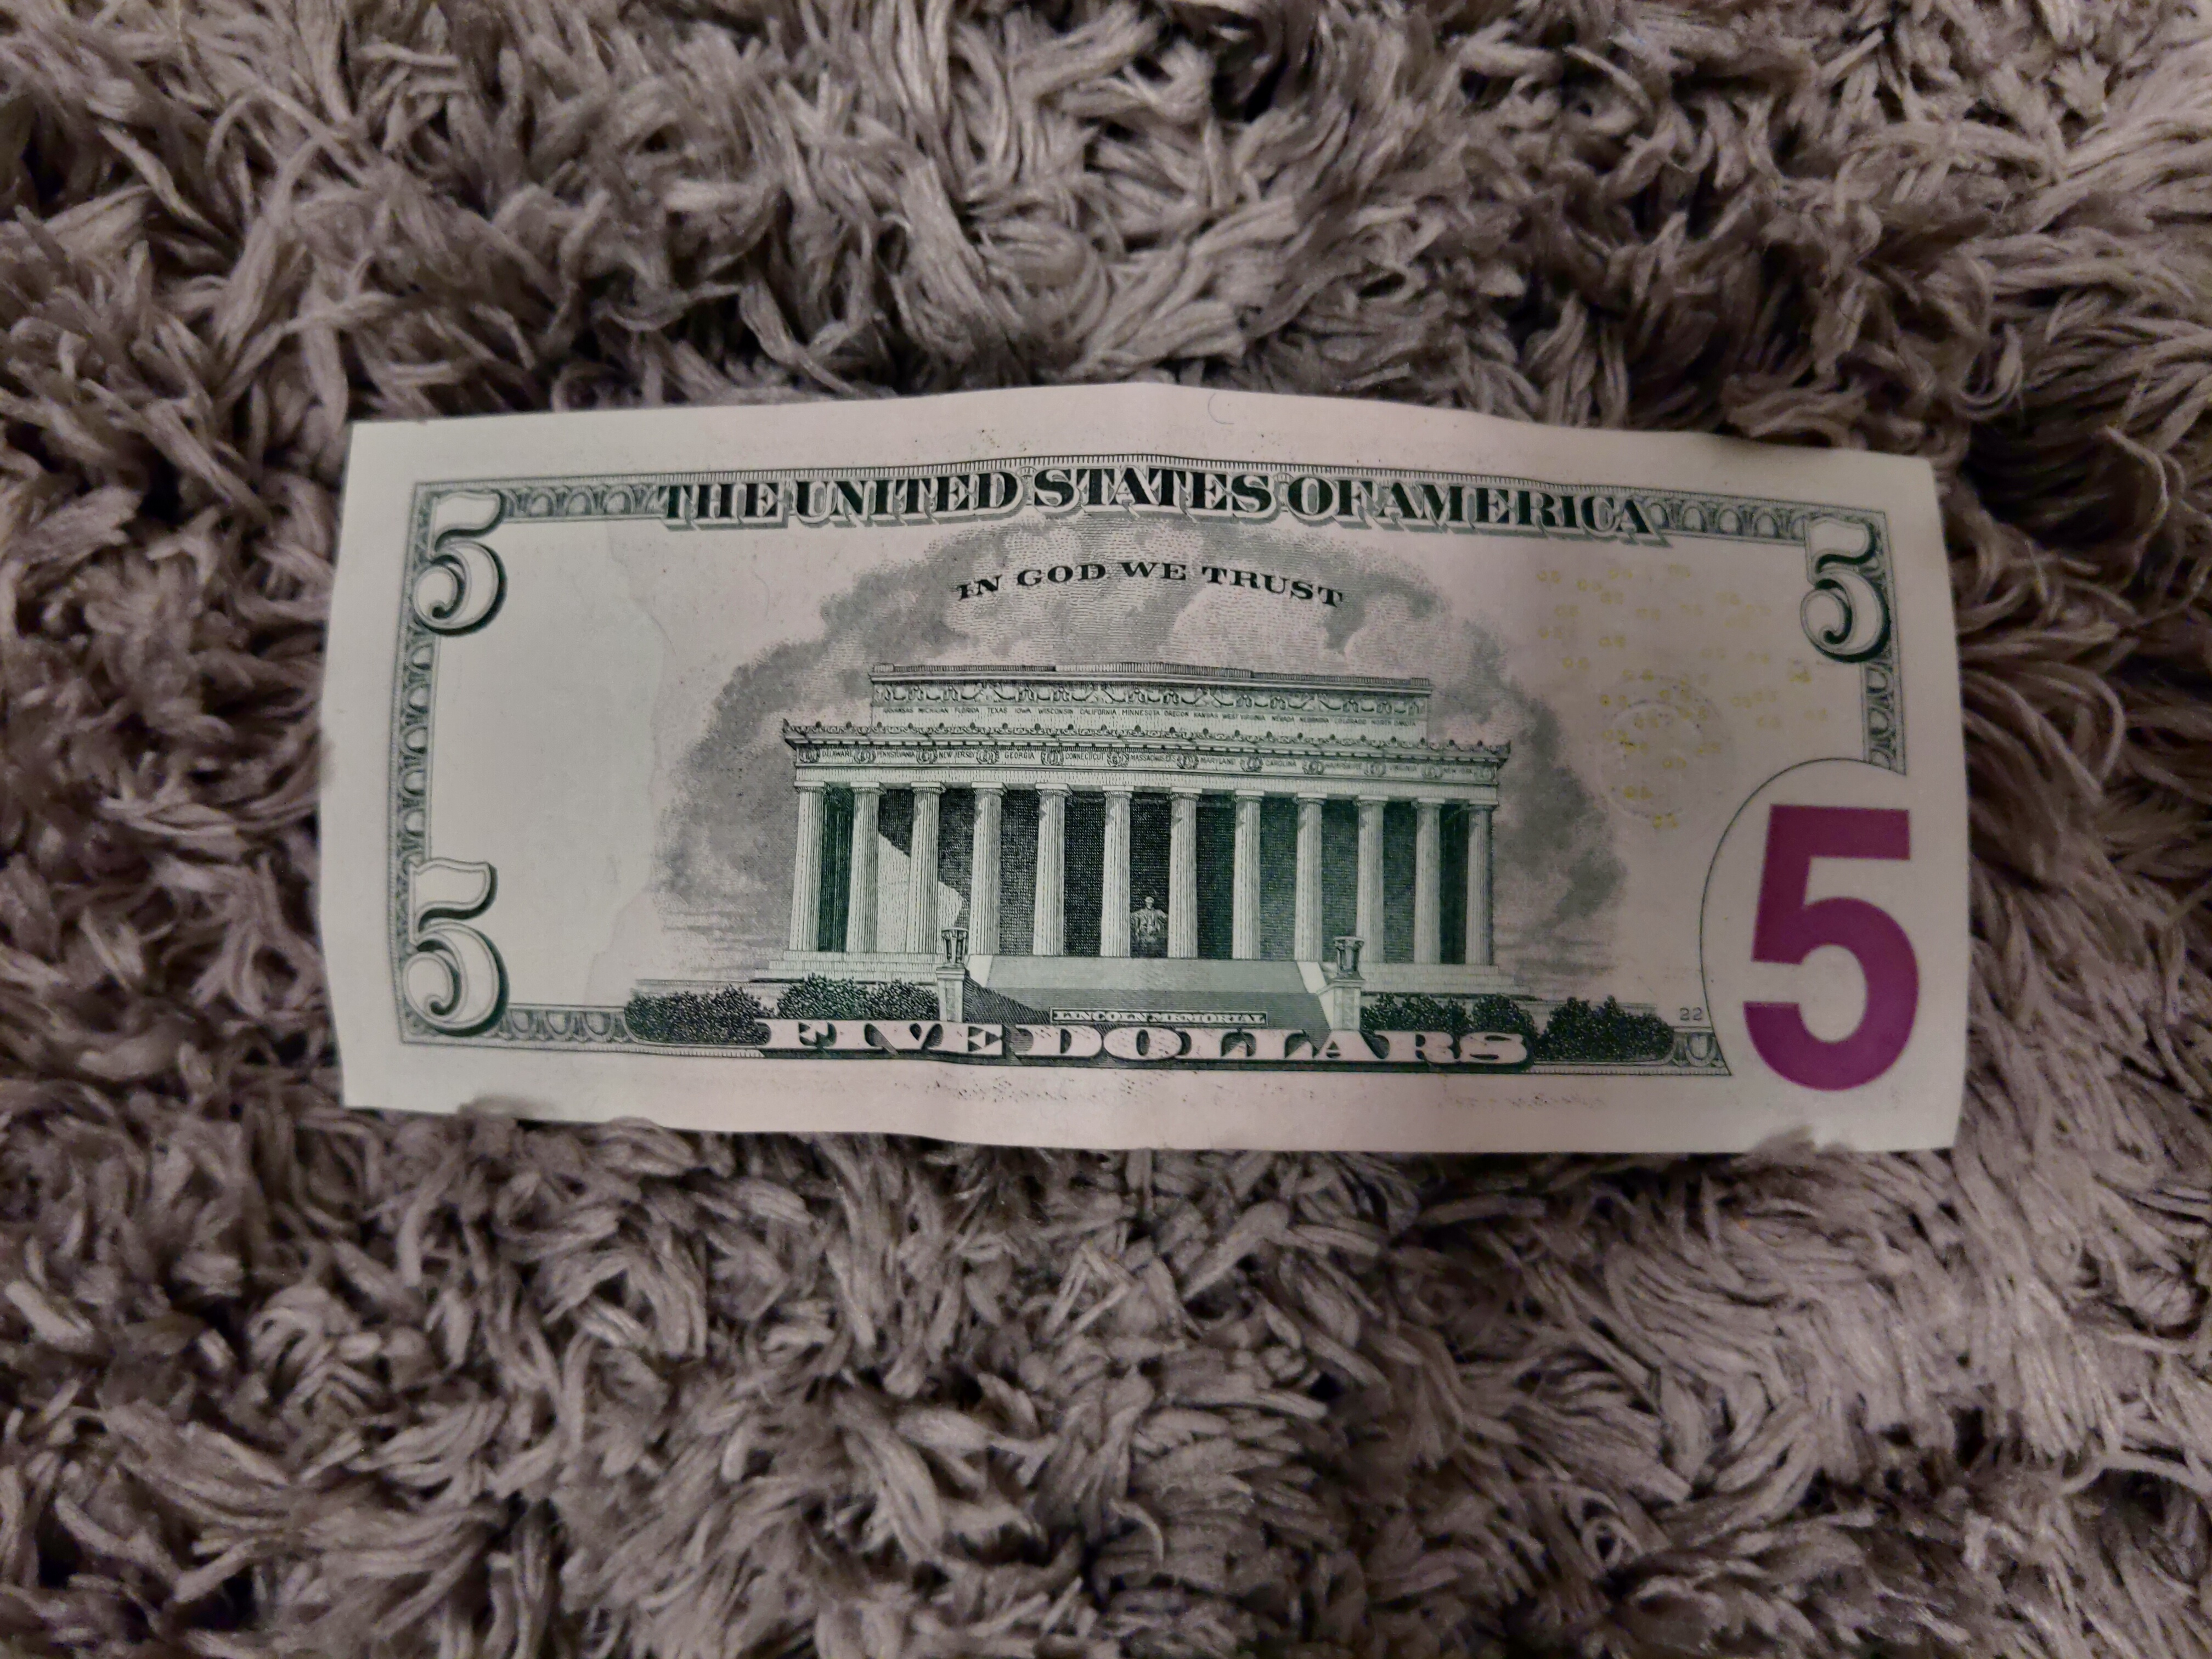FiveBill: (317, 382, 1977, 1161)
